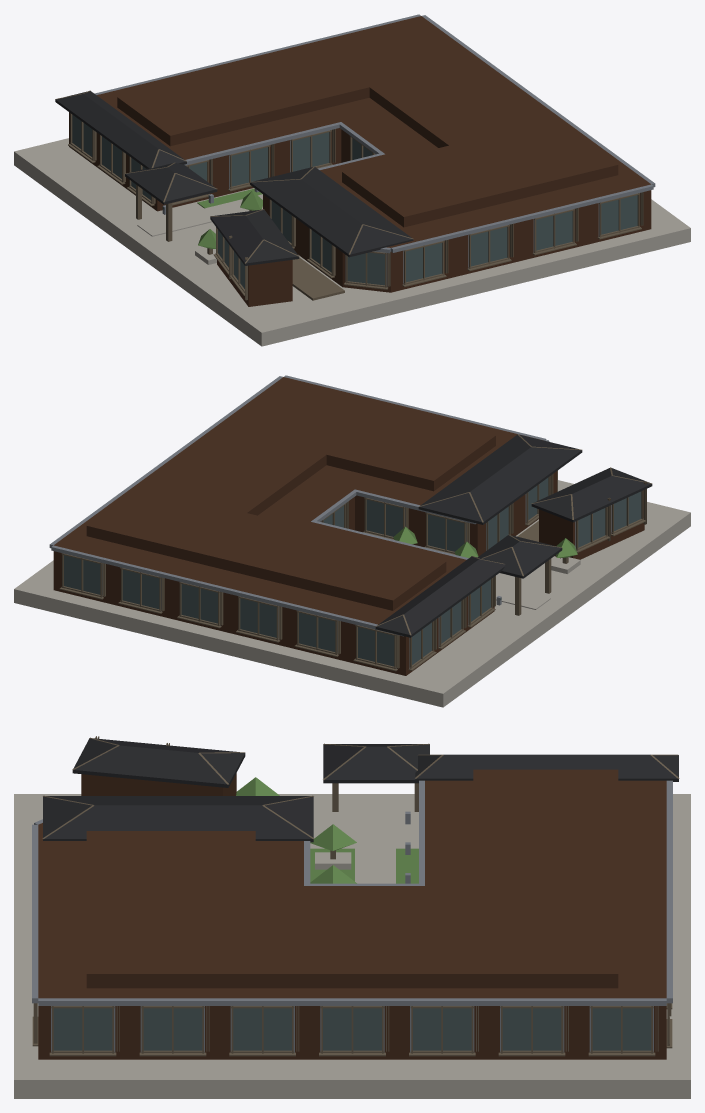
The model's file is base-prebuilt_close.fbx.
3 views of the same model, one above another, from view 1: azimuth 30°, elevation 25°; view 2: azimuth 150°, elevation 25°; view 3: azimuth 270°, elevation 25° (orthographic). The views are drawn at different scales.
Parts seen in each view (by area): view 1: a2016/0/base-prebuilt_close; view 2: a2016/0/base-prebuilt_close; view 3: a2016/0/base-prebuilt_close.
Boxes of the visible parts, x1,y1,x2,y2 form: a2016/0/base-prebuilt_close: (14,14,690,346); a2016/0/base-prebuilt_close: (14,375,690,707); a2016/0/base-prebuilt_close: (14,736,690,1098).
Bounding box in the file's own units: 28 × 4.3 × 28.
